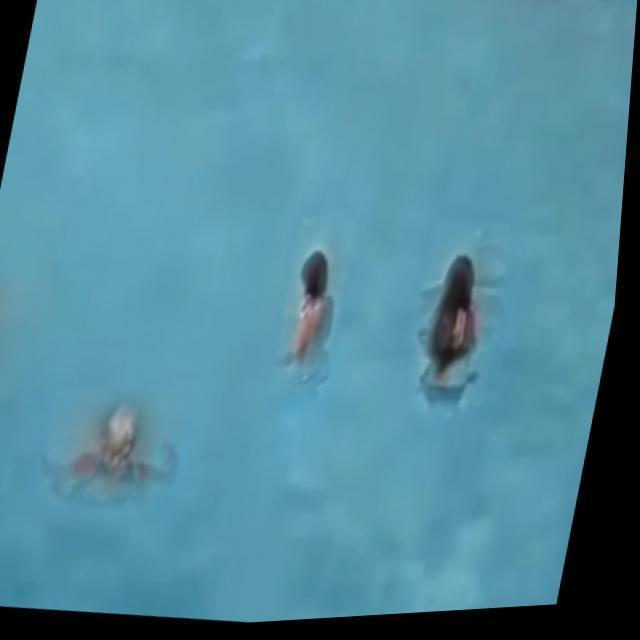swimming: (40, 391, 177, 516), (408, 247, 487, 428), (272, 235, 344, 404)
